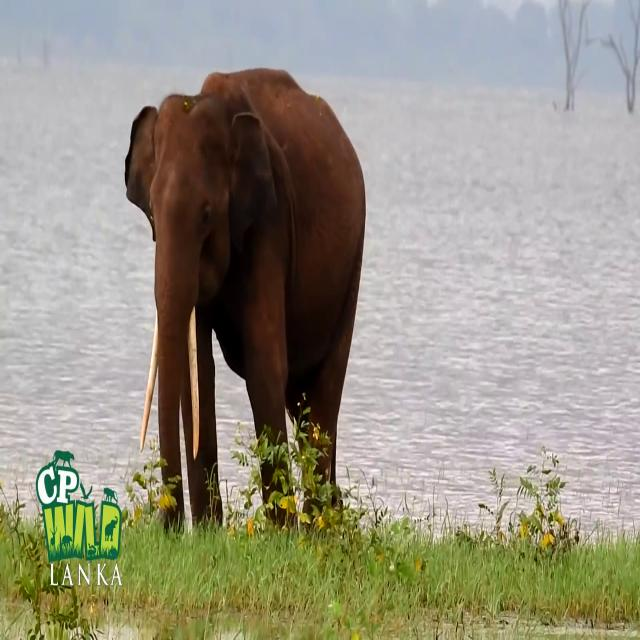Elephant: (124, 66, 366, 536)
